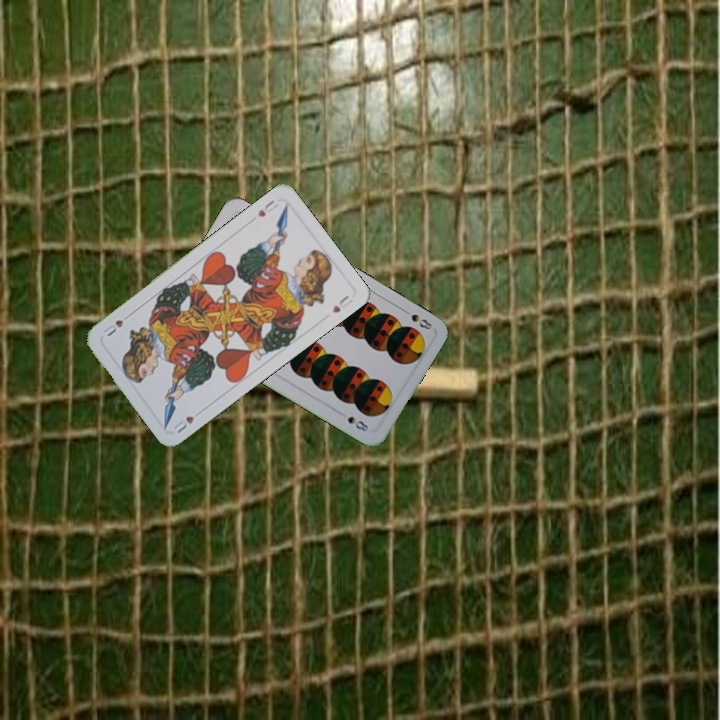HU: (168, 412, 197, 436), (253, 196, 280, 220)
S8: (398, 305, 436, 333)
